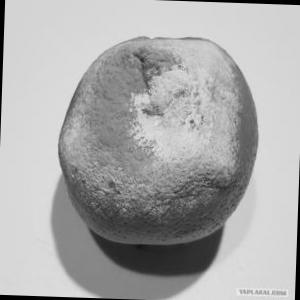fruit: (51, 20, 276, 252)
